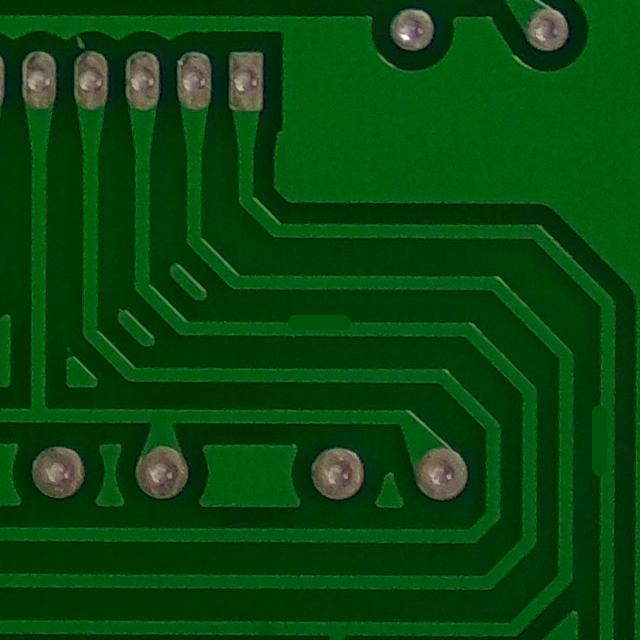spur: (275, 294, 365, 347)
